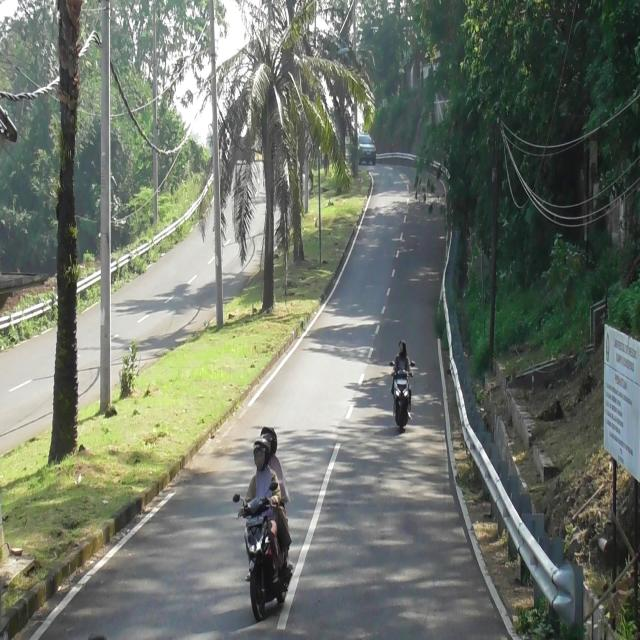motorcycle: (234, 478, 295, 612), (388, 357, 416, 430)
person: (242, 442, 280, 583), (259, 424, 291, 569), (391, 337, 415, 378)
rider_region: (231, 421, 294, 622), (388, 339, 417, 432)
